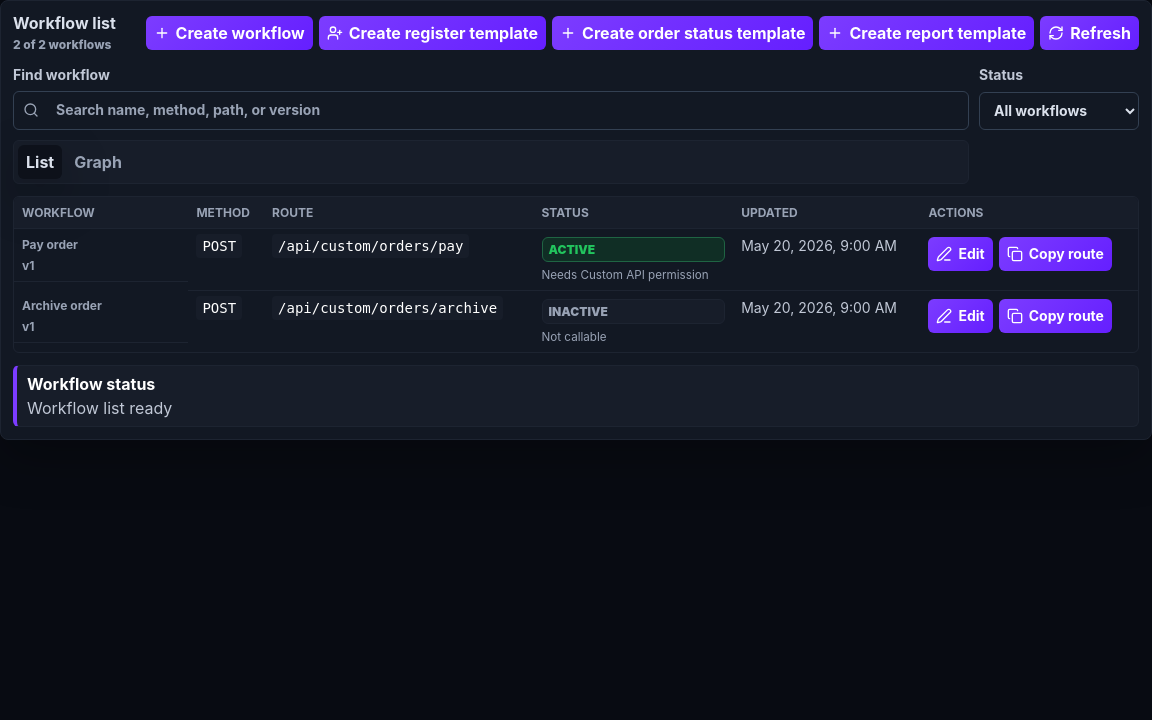
Test: WorkflowManager › explains activation behavior in the workflow form
Click the button "Create workflow" at (229, 33), box [146,16,313,50]
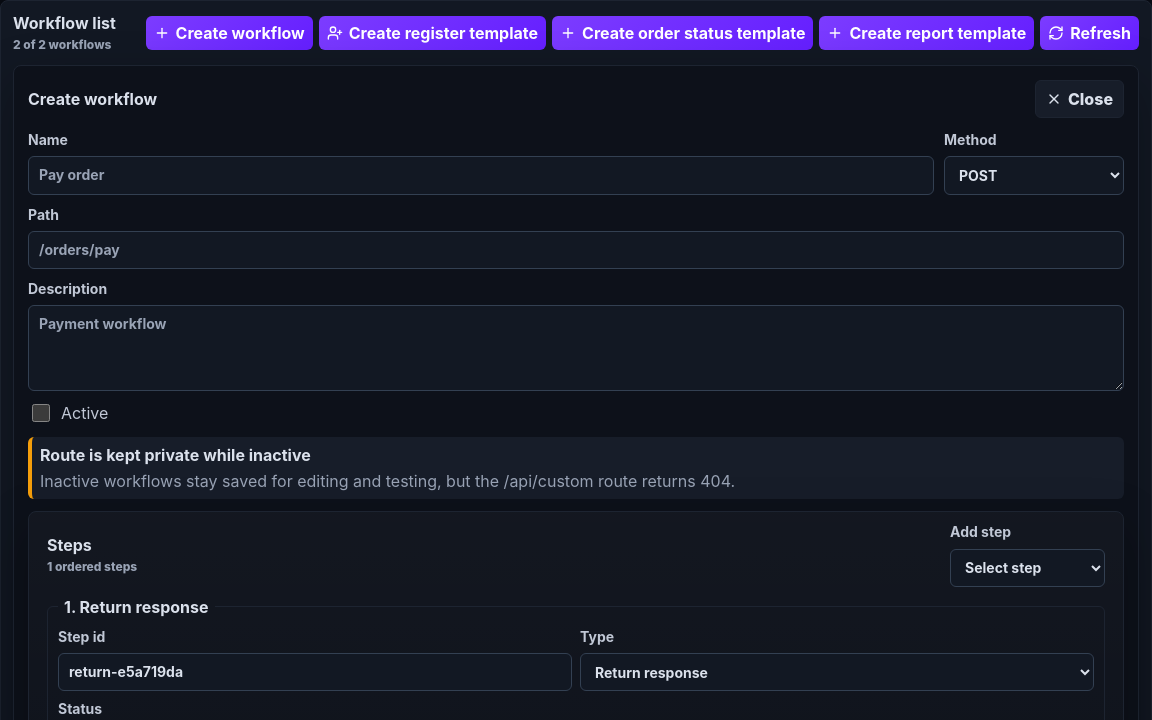
Now the text "Route is kept private while inactive" is shown, box [40,446,311,466]
Now the text "returns 404" is shown, box [40,472,735,492]
Click the checkbox labelled "Active" at (41, 414), box [32,404,50,422]
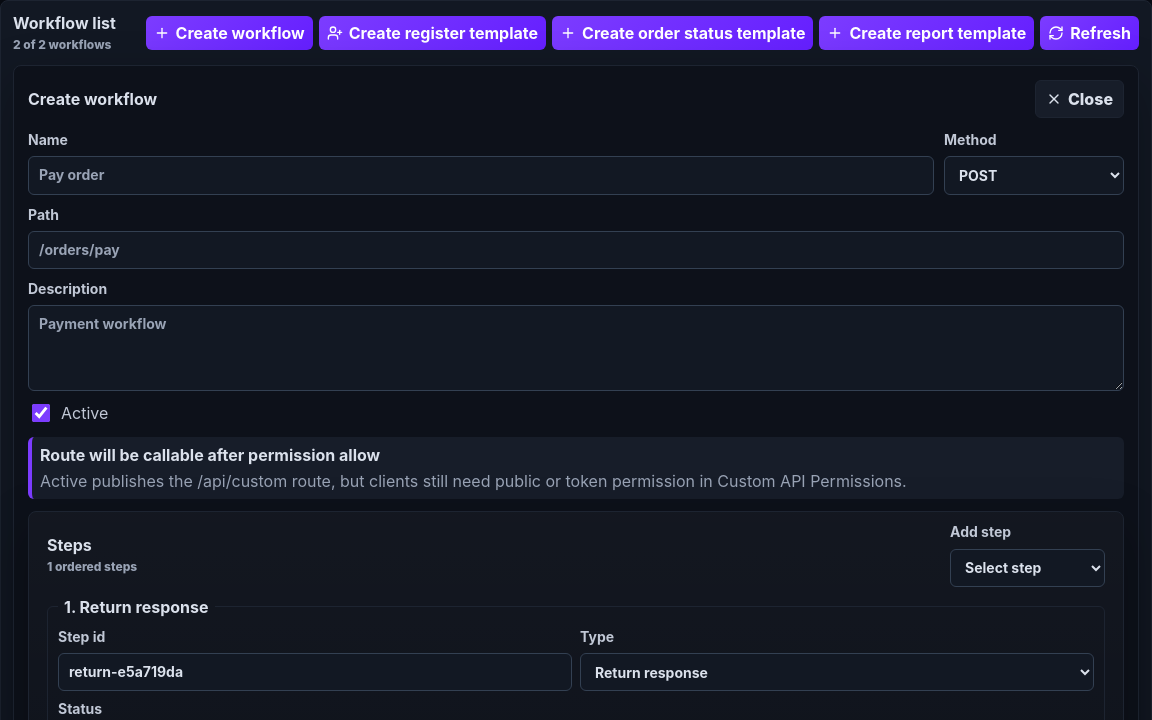
Now the text "Route will be callable after permission allow" is shown, box [40,446,380,466]
Now the text "Custom API Permissions" is shown, box [40,472,907,492]
